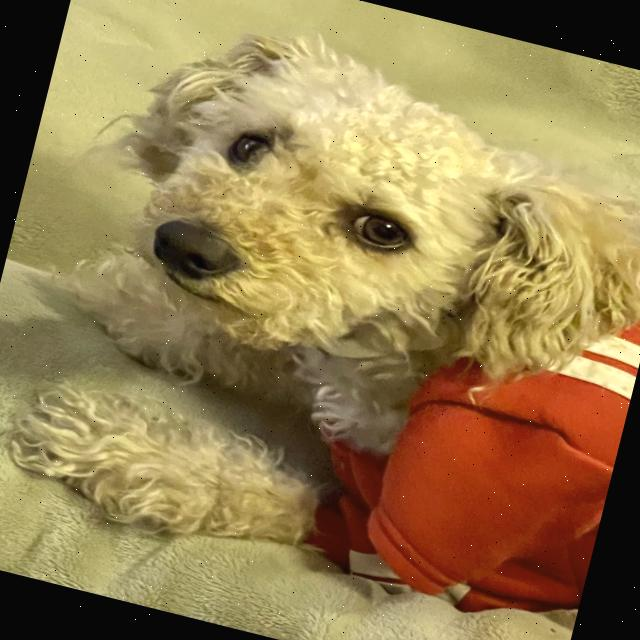Poodle_dog: (53, 0, 640, 456)
